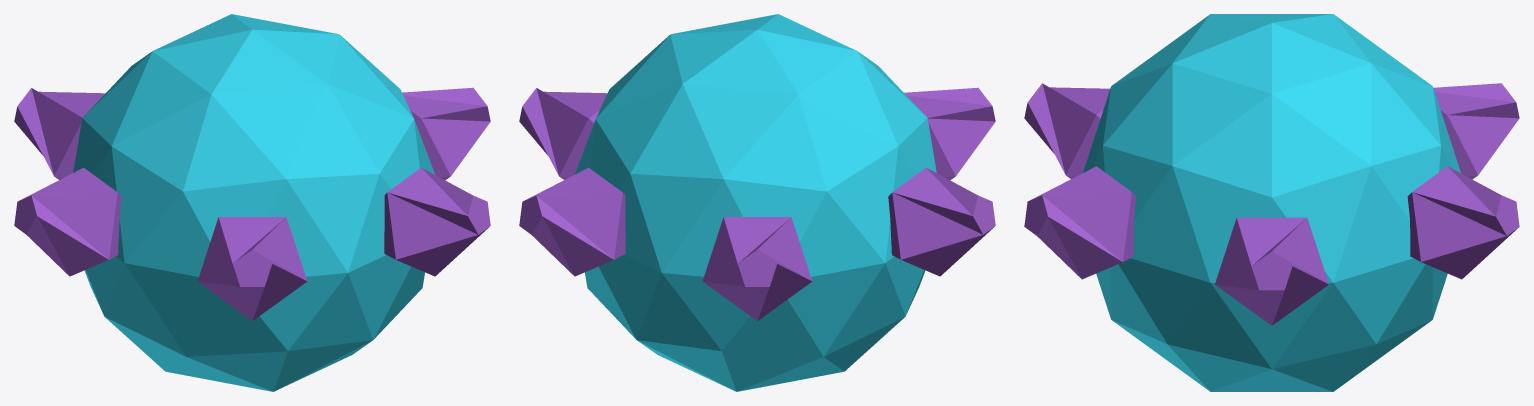
File: crystal_planet.glb
3 renders of one model, left to right at view 1: azimuth 30°, elevation 25°; view 2: azimuth 150°, elevation 25°; view 3: azimuth 270°, elevation 25°, orthographic. The views are drawn at different scales.
Visible parts, largest first — view 1: crystal_planet; view 2: crystal_planet; view 3: crystal_planet.
Part boxes in pixels (left/top/right/bottom): crystal_planet: left=14, top=14, right=490, bottom=391; crystal_planet: left=519, top=14, right=995, bottom=391; crystal_planet: left=1024, top=14, right=1519, bottom=391.
Size of the model in its own units: 2.41 by 1.72 by 2.14.
